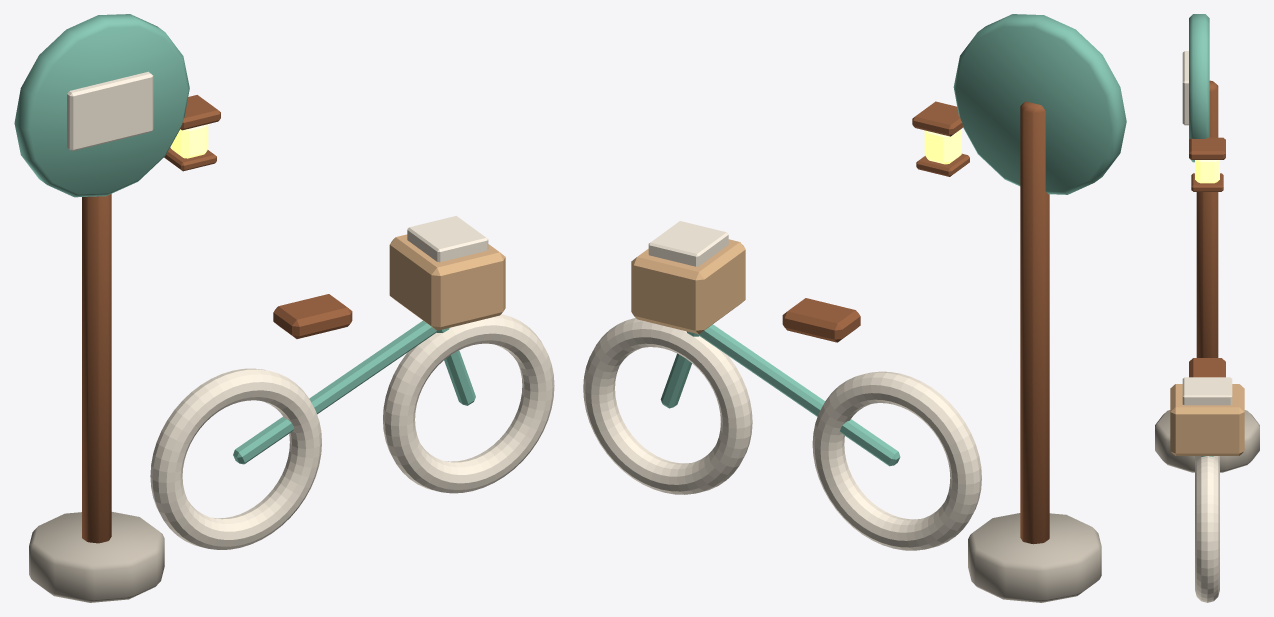
The model's file is F42-postal-bike-stop.glb.
3 renders of one model, left to right at view 1: azimuth 30°, elevation 25°; view 2: azimuth 150°, elevation 25°; view 3: azimuth 270°, elevation 25°, orthographic. The views are drawn at different scales.
Visible parts, largest first — view 1: cream_wall, mint_wood, toasted_wood, Sign_Base, Wicker_Basket, Lantern_Core; view 2: cream_wall, mint_wood, toasted_wood, Sign_Base, Wicker_Basket, Lantern_Core; view 3: toasted_wood, cream_wall, Wicker_Basket, mint_wood, Sign_Base, Lantern_Core.
Part boxes in pixels (x1=…): cream_wall: x1=67, y1=71, x2=554, y2=549; mint_wood: x1=14, y1=14, x2=475, y2=464; toasted_wood: x1=82, y1=95, x2=352, y2=543; Sign_Base: x1=29, y1=512, x2=164, y2=602; Wicker_Basket: x1=389, y1=234, x2=505, y2=330; Lantern_Core: x1=171, y1=124, x2=208, y2=158; cream_wall: x1=583, y1=221, x2=981, y2=550; mint_wood: x1=660, y1=14, x2=1126, y2=466; toasted_wood: x1=782, y1=101, x2=1049, y2=544; Sign_Base: x1=968, y1=513, x2=1101, y2=602; Wicker_Basket: x1=631, y1=239, x2=745, y2=334; Lantern_Core: x1=924, y1=129, x2=961, y2=164; toasted_wood: x1=1189, y1=80, x2=1225, y2=377; cream_wall: x1=1182, y1=51, x2=1232, y2=602; Wicker_Basket: x1=1170, y1=384, x2=1244, y2=455; mint_wood: x1=1189, y1=14, x2=1213, y2=456; Sign_Base: x1=1155, y1=410, x2=1259, y2=472; Lantern_Core: x1=1195, y1=160, x2=1219, y2=183.
Size of the model in its own units: 2.32 by 2.33 by 0.5076.
